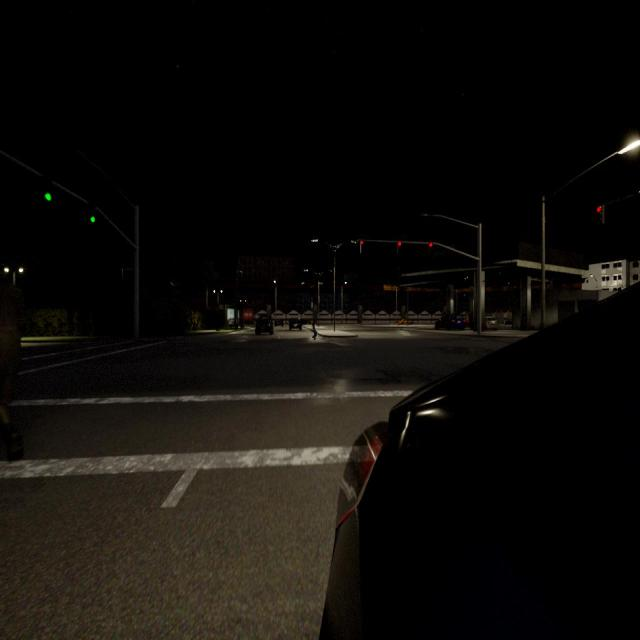Pedestrian: (0, 274, 16, 428), (312, 321, 317, 340)
Vehicle: (324, 290, 640, 638), (436, 315, 464, 330), (256, 315, 272, 335), (484, 316, 496, 329), (290, 318, 302, 331), (398, 318, 411, 325), (275, 316, 283, 326)
traffic_light: (45, 179, 52, 201), (596, 206, 604, 223), (90, 205, 96, 222), (398, 241, 402, 253), (360, 240, 363, 252), (428, 242, 432, 247)
